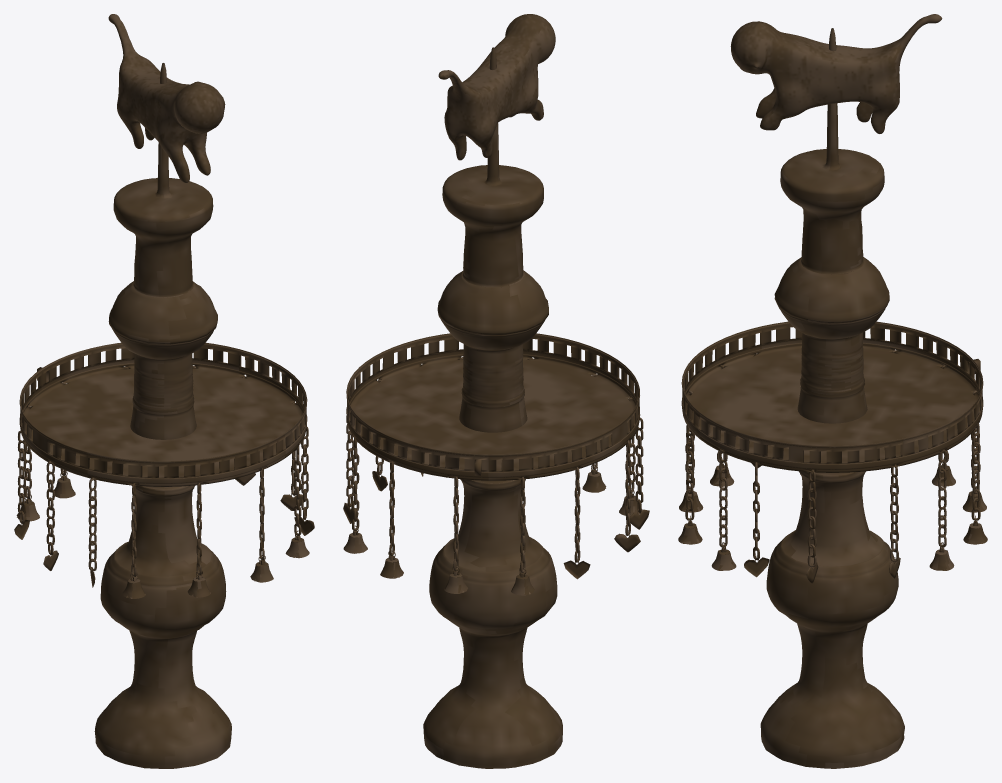
3 views of the same model, side by side, from view 1: azimuth 30°, elevation 25°; view 2: azimuth 150°, elevation 25°; view 3: azimuth 270°, elevation 25° (orthographic). The views are drawn at different scales.
Visible parts, largest first — view 1: Retopo_tube, socle, Retopo_cat, Retopo_bell, Retopo_heart; view 2: Retopo_tube, socle, Retopo_cat, Retopo_bell, Retopo_heart; view 3: Retopo_tube, socle, Retopo_cat, Retopo_bell, Retopo_heart.
Boxes of the visible parts, x1,y1,x2,y2 form: Retopo_tube: (94,63,231,768); socle: (19,342,307,486); Retopo_cat: (108,14,225,182); Retopo_bell: (16,365,309,598); Retopo_heart: (14,376,314,587); Retopo_tube: (423,47,562,768); socle: (346,333,640,480); Retopo_cat: (438,14,555,160); Retopo_bell: (343,357,642,595); Retopo_heart: (343,364,649,579); Retopo_tube: (760,28,904,768); socle: (681,321,983,472); Retopo_cat: (730,14,942,133); Retopo_bell: (678,365,987,570); Retopo_heart: (744,350,900,583).
Bounding box in the file's own units: 143 × 358 × 139.
1 material, 1 textured.
